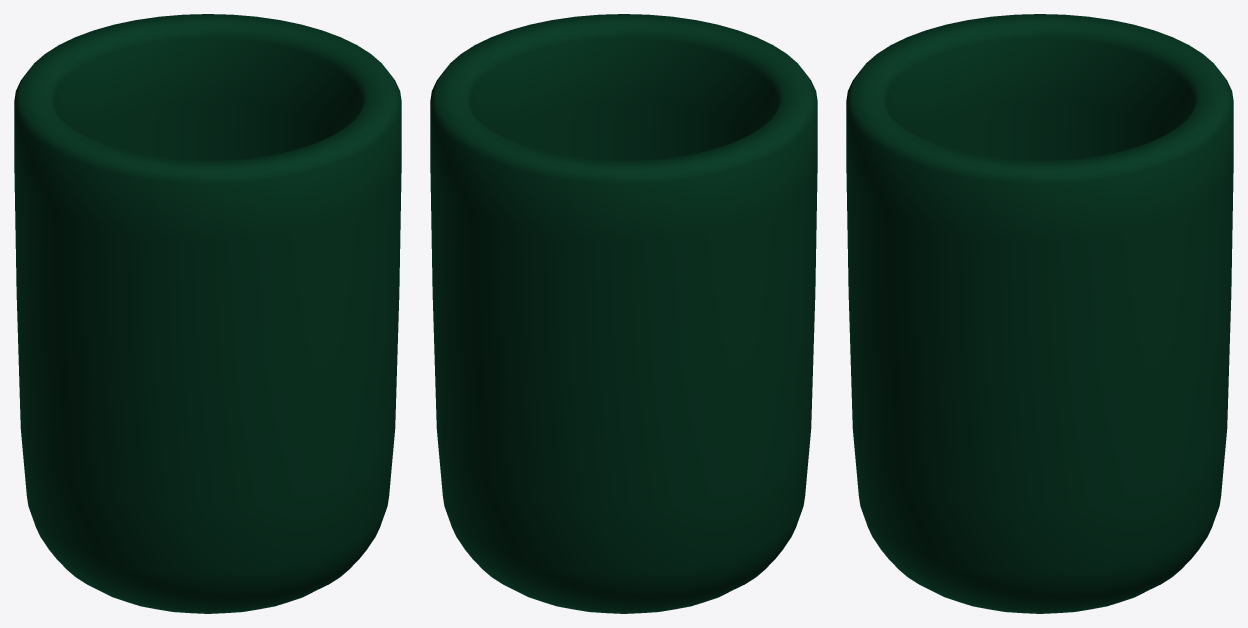
Rendered from Vaso.fbx.
The picture shows the model from 3 angles, left to right: view 1: azimuth 30°, elevation 25°; view 2: azimuth 150°, elevation 25°; view 3: azimuth 270°, elevation 25°; orthographic projection.
Parts seen in each view (by area): view 1: Cylinder.005; view 2: Cylinder.005; view 3: Cylinder.005.
Boxes of the visible parts, x1,y1,x2,y2 form: Cylinder.005: (14,14,401,613); Cylinder.005: (430,14,817,613); Cylinder.005: (846,14,1233,613).
Bounding box in the file's own units: 339 × 459 × 339.
